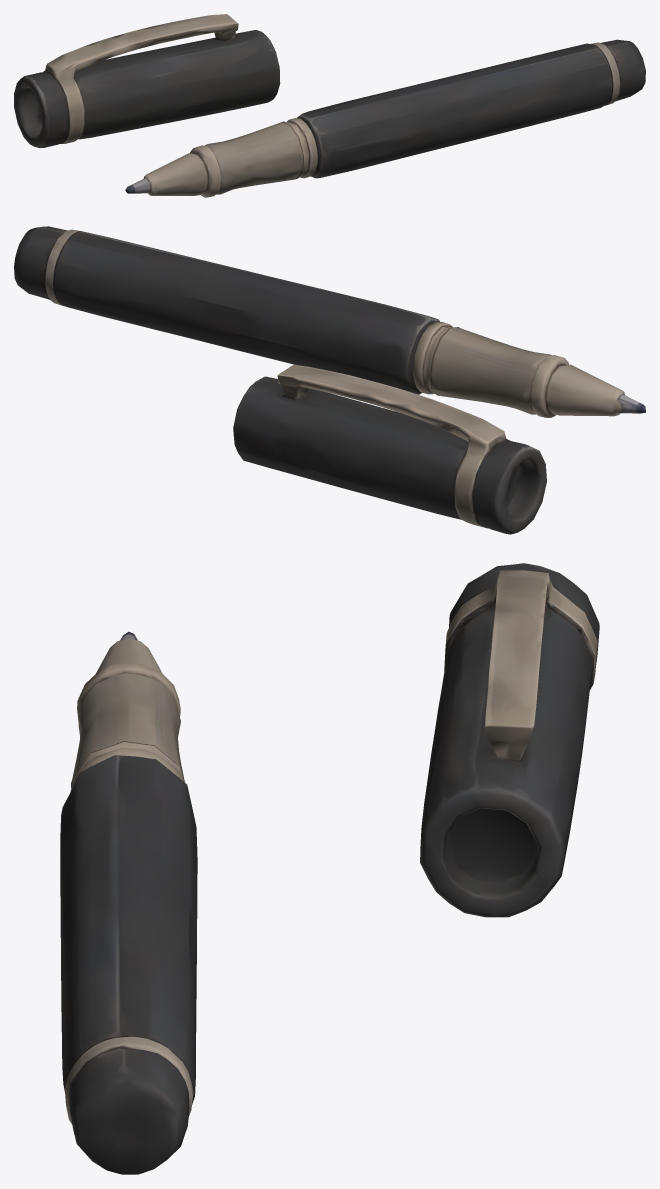
File: ENV_SMALL_PROPS_PEN_v001_RAW.glb.glb
3 views of the same model, one above another, from view 1: azimuth 30°, elevation 25°; view 2: azimuth 150°, elevation 25°; view 3: azimuth 270°, elevation 25° (orthographic). The views are drawn at different scales.
Parts seen in each view (by area): view 1: tripo_node_bf2c83fc-d7f0-4d66-b018-3ddbb6df335f; view 2: tripo_node_bf2c83fc-d7f0-4d66-b018-3ddbb6df335f; view 3: tripo_node_bf2c83fc-d7f0-4d66-b018-3ddbb6df335f.
Part boxes in pixels (bbox=[...]): tripo_node_bf2c83fc-d7f0-4d66-b018-3ddbb6df335f: bbox=[14, 14, 645, 197]; tripo_node_bf2c83fc-d7f0-4d66-b018-3ddbb6df335f: bbox=[14, 226, 645, 534]; tripo_node_bf2c83fc-d7f0-4d66-b018-3ddbb6df335f: bbox=[60, 563, 599, 1174].
Size of the model in its own units: 0.9817 by 0.1615 by 0.4509.
Materials: 1 (1 with a texture image).
